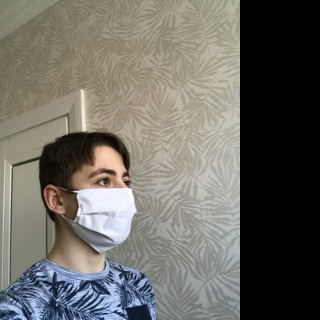with_mask: (73, 160, 137, 257)
